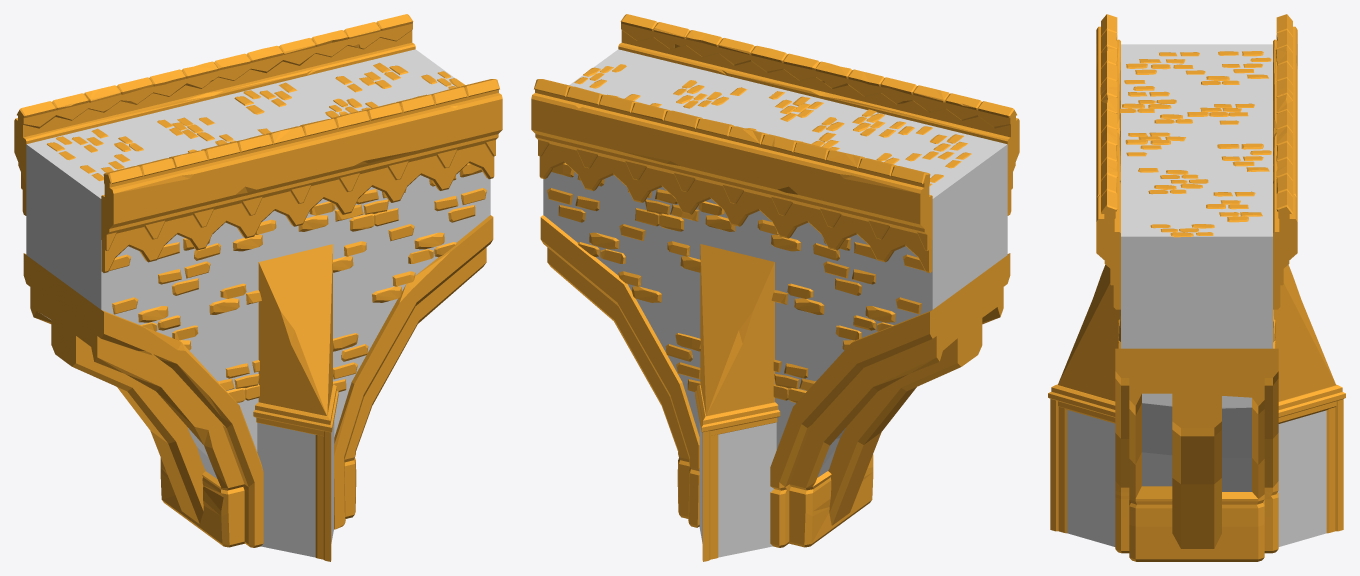
The model's file is SM_Bridge_Stone_Big_Top_A_Fantasy.fbx.
The picture shows the model from 3 angles, left to right: view 1: azimuth 30°, elevation 25°; view 2: azimuth 150°, elevation 25°; view 3: azimuth 270°, elevation 25°; orthographic projection.
Visible parts, largest first — view 1: SM_Bridge_Stone_Big_Top_A_Fantasy; view 2: SM_Bridge_Stone_Big_Top_A_Fantasy; view 3: SM_Bridge_Stone_Big_Top_A_Fantasy.
Boxes of the visible parts, box(x1,y1,x2,y2) form: SM_Bridge_Stone_Big_Top_A_Fantasy: box(14, 14, 502, 561); SM_Bridge_Stone_Big_Top_A_Fantasy: box(531, 14, 1019, 561); SM_Bridge_Stone_Big_Top_A_Fantasy: box(1048, 14, 1345, 561).
Bounding box in the file's own units: 18.04 × 18.37 × 11.78.
